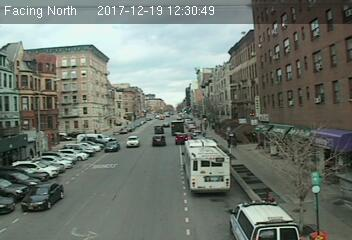bus: (183, 139, 234, 195)
car: (17, 181, 66, 210), (151, 135, 167, 147), (126, 134, 139, 146), (104, 141, 117, 151), (175, 134, 188, 144)
police: (225, 198, 297, 240)
ups: (170, 121, 184, 135)
